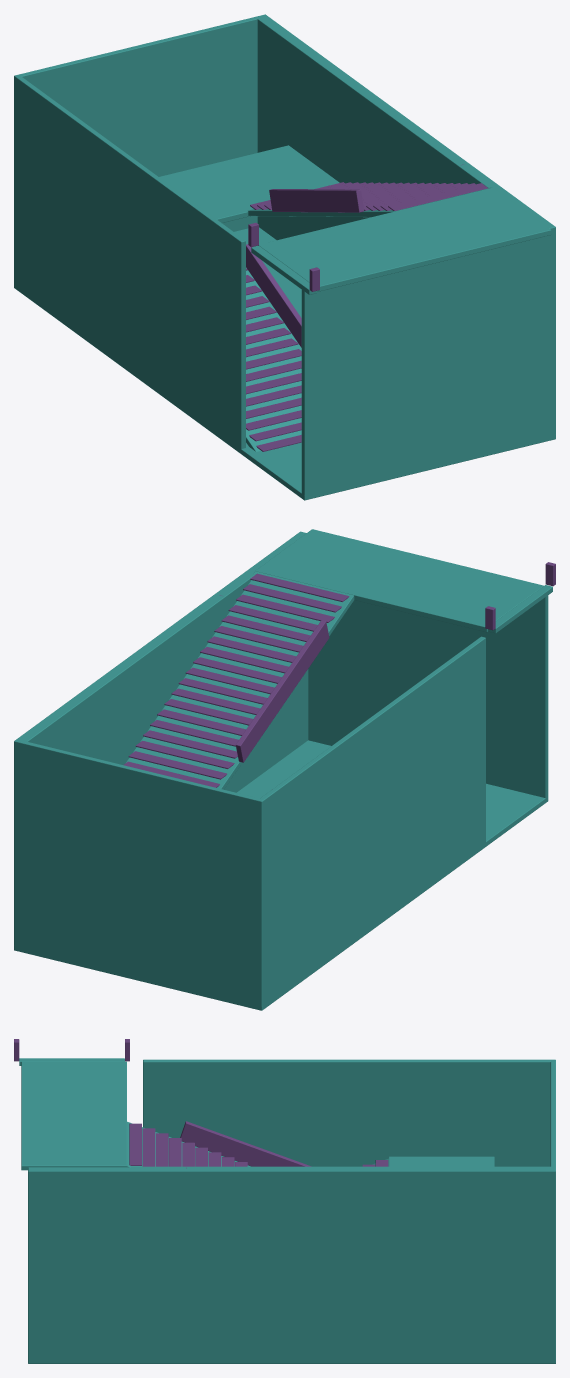
3 renders of one model, top to bottom at view 1: azimuth 30°, elevation 25°; view 2: azimuth 150°, elevation 25°; view 3: azimuth 270°, elevation 25°, orthographic. The views are drawn at different scales.
Parts seen in each view (by area): view 1: 楼梯A_100至99层_Stair_Special_Rooftop_EnclosureWall_DoorSid, 楼梯A_100至99层_Stair_Special_Rooftop_EnclosureWall_Inner, 楼梯A_100至99层_Stair_Special_Rooftop_EnclosureWall_Far, 楼梯A_100至99层_Stair_Special_Rooftop_EnclosureWall_Outer, 楼梯A_100至99层_Stair_Special_Rooftop_UpperDoorLanding_Walk, 楼梯A_100至99层_Stair_Special_Rooftop_TurnLanding_Walkable, 楼梯A_100至99层_Stair_Special_Rooftop_LowerDoorLanding_Walk, 楼梯A_100至99层_Stair_Special_Rooftop_LowerFlight_Walkable, 楼梯A_100至99层_Stair_Special_Rooftop_UpperFlight_Guard_02, 楼梯A_100至99层_Stair_Special_Rooftop_LowerFlight_Guard_02, 楼梯A_100至99层_Stair_Special_Rooftop_UpperFlight_Walkable, 楼梯A_100至99层_Stair_Special_Rooftop_CoreConnector_Walkabl (+1 smaller); view 2: 楼梯A_100至99层_Stair_Special_Rooftop_EnclosureWall_Far, 楼梯A_100至99层_Stair_Special_Rooftop_EnclosureWall_Inner, 楼梯A_100至99层_Stair_Special_Rooftop_EnclosureWall_DoorSid, 楼梯A_100至99层_Stair_Special_Rooftop_EnclosureWall_Outer, 楼梯A_100至99层_Stair_Special_Rooftop_UpperDoorLanding_Walk, 楼梯A_100至99层_Stair_Special_Rooftop_UpperFlight_Walkable, 楼梯A_100至99层_Stair_Special_Rooftop_LowerDoorLanding_Walk, 楼梯A_100至99层_Stair_Special_Rooftop_UpperFlight_Guard_02, 楼梯A_100至99层_Stair_Special_Rooftop_ROOT_UpperFlight_Trea, 楼梯A_100至99层_Stair_Special_Rooftop_ROOT_UpperFlight_, 楼梯A_100至99层_Stair_Special_Rooftop_ROOT_UpperFlight_.015, 楼梯A_100至99层_Stair_Special_Rooftop_ROOT_UpperFlight_.016 (+15 smaller); view 3: 楼梯A_100至99层_Stair_Special_Rooftop_EnclosureWall_Outer, 楼梯A_100至99层_Stair_Special_Rooftop_EnclosureWall_Inner, 楼梯A_100至99层_Stair_Special_Rooftop_UpperDoorLanding_Walk, 楼梯A_100至99层_Stair_Special_Rooftop_LowerDoorLanding_Walk, 楼梯A_100至99层_Stair_Special_Rooftop_UpperFlight_Guard_02, 楼梯A_100至99层_Stair_Special_Rooftop_TurnLanding_Walkable, 楼梯A_100至99层_Stair_Special_Rooftop_EnclosureWall_DoorSid, 楼梯A_100至99层_Stair_Special_Rooftop_EnclosureWall_Far, 楼梯A_100至99层_Stair_Special_Rooftop_ROOT_UpperFlight_Trea, 楼梯A_100至99层_Stair_Special_Rooftop_ROOT_UpperFlight_, 楼梯A_100至99层_Stair_Special_Rooftop_ROOT_UpperFlight_.001, 楼梯A_100至99层_Stair_Special_Rooftop_CoreConnector_Walkabl.
Boxes of the visible parts, left/top/right/bottom form: 楼梯A_100至99层_Stair_Special_Rooftop_EnclosureWall_DoorSid: left=301, top=225, right=555, bottom=496; 楼梯A_100至99层_Stair_Special_Rooftop_EnclosureWall_Inner: left=16, top=75, right=245, bottom=448; 楼梯A_100至99层_Stair_Special_Rooftop_EnclosureWall_Far: left=14, top=14, right=265, bottom=284; 楼梯A_100至99层_Stair_Special_Rooftop_EnclosureWall_Outer: left=257, top=14, right=555, bottom=437; 楼梯A_100至99层_Stair_Special_Rooftop_UpperDoorLanding_Walk: left=258, top=187, right=551, bottom=291; 楼梯A_100至99层_Stair_Special_Rooftop_TurnLanding_Walkable: left=159, top=145, right=339, bottom=222; 楼梯A_100至99层_Stair_Special_Rooftop_LowerDoorLanding_Walk: left=14, top=227, right=555, bottom=500; 楼梯A_100至99层_Stair_Special_Rooftop_LowerFlight_Walkable: left=246, top=267, right=301, bottom=451; 楼梯A_100至99层_Stair_Special_Rooftop_UpperFlight_Guard_02: left=269, top=189, right=363, bottom=212; 楼梯A_100至99层_Stair_Special_Rooftop_LowerFlight_Guard_02: left=246, top=244, right=301, bottom=347; 楼梯A_100至99层_Stair_Special_Rooftop_UpperFlight_Walkable: left=248, top=187, right=491, bottom=217; 楼梯A_100至99层_Stair_Special_Rooftop_CoreConnector_Walkabl: left=251, top=246, right=316, bottom=294; 楼梯A_100至99层_Stair_Special_Rooftop_EnclosureWall_Far: left=14, top=739, right=264, bottom=1005; 楼梯A_100至99层_Stair_Special_Rooftop_EnclosureWall_Inner: left=257, top=636, right=485, bottom=1005; 楼梯A_100至99层_Stair_Special_Rooftop_EnclosureWall_DoorSid: left=298, top=531, right=548, bottom=798; 楼梯A_100至99层_Stair_Special_Rooftop_EnclosureWall_Outer: left=14, top=532, right=308, bottom=947; 楼梯A_100至99层_Stair_Special_Rooftop_UpperDoorLanding_Walk: left=255, top=529, right=543, bottom=632; 楼梯A_100至99层_Stair_Special_Rooftop_UpperFlight_Walkable: left=126, top=571, right=354, bottom=789; 楼梯A_100至99层_Stair_Special_Rooftop_LowerDoorLanding_Walk: left=14, top=740, right=548, bottom=1010; 楼梯A_100至99层_Stair_Special_Rooftop_UpperFlight_Guard_02: left=235, top=620, right=329, bottom=762; 楼梯A_100至99层_Stair_Special_Rooftop_ROOT_UpperFlight_Trea: left=250, top=573, right=349, bottom=601; 楼梯A_100至99层_Stair_Special_Rooftop_ROOT_UpperFlight_: left=243, top=584, right=341, bottom=612; 楼梯A_100至99层_Stair_Special_Rooftop_ROOT_UpperFlight_.015: left=135, top=740, right=234, bottom=768; 楼梯A_100至99层_Stair_Special_Rooftop_ROOT_UpperFlight_.016: left=128, top=751, right=226, bottom=779; 楼梯A_100至99层_Stair_Special_Rooftop_EnclosureWall_Outer: left=28, top=1166, right=555, bottom=1360; 楼梯A_100至99层_Stair_Special_Rooftop_EnclosureWall_Inner: left=143, top=1059, right=555, bottom=1166; 楼梯A_100至99层_Stair_Special_Rooftop_UpperDoorLanding_Walk: left=21, top=1061, right=126, bottom=1170; 楼梯A_100至99层_Stair_Special_Rooftop_LowerDoorLanding_Walk: left=28, top=1359, right=555, bottom=1363; 楼梯A_100至99层_Stair_Special_Rooftop_UpperFlight_Guard_02: left=180, top=1121, right=311, bottom=1166; 楼梯A_100至99层_Stair_Special_Rooftop_TurnLanding_Walkable: left=389, top=1156, right=494, bottom=1166; 楼梯A_100至99层_Stair_Special_Rooftop_EnclosureWall_DoorSid: left=28, top=1167, right=32, bottom=1360; 楼梯A_100至99层_Stair_Special_Rooftop_EnclosureWall_Far: left=550, top=1059, right=555, bottom=1170; 楼梯A_100至99层_Stair_Special_Rooftop_ROOT_UpperFlight_Trea: left=129, top=1123, right=141, bottom=1165; 楼梯A_100至99层_Stair_Special_Rooftop_ROOT_UpperFlight_: left=142, top=1128, right=155, bottom=1166; 楼梯A_100至99层_Stair_Special_Rooftop_ROOT_UpperFlight_.001: left=156, top=1133, right=168, bottom=1166; 楼梯A_100至99层_Stair_Special_Rooftop_CoreConnector_Walkabl: left=19, top=1058, right=124, bottom=1065.
Bounding box in the file's own units: 15 × 13.46 × 30.8.
